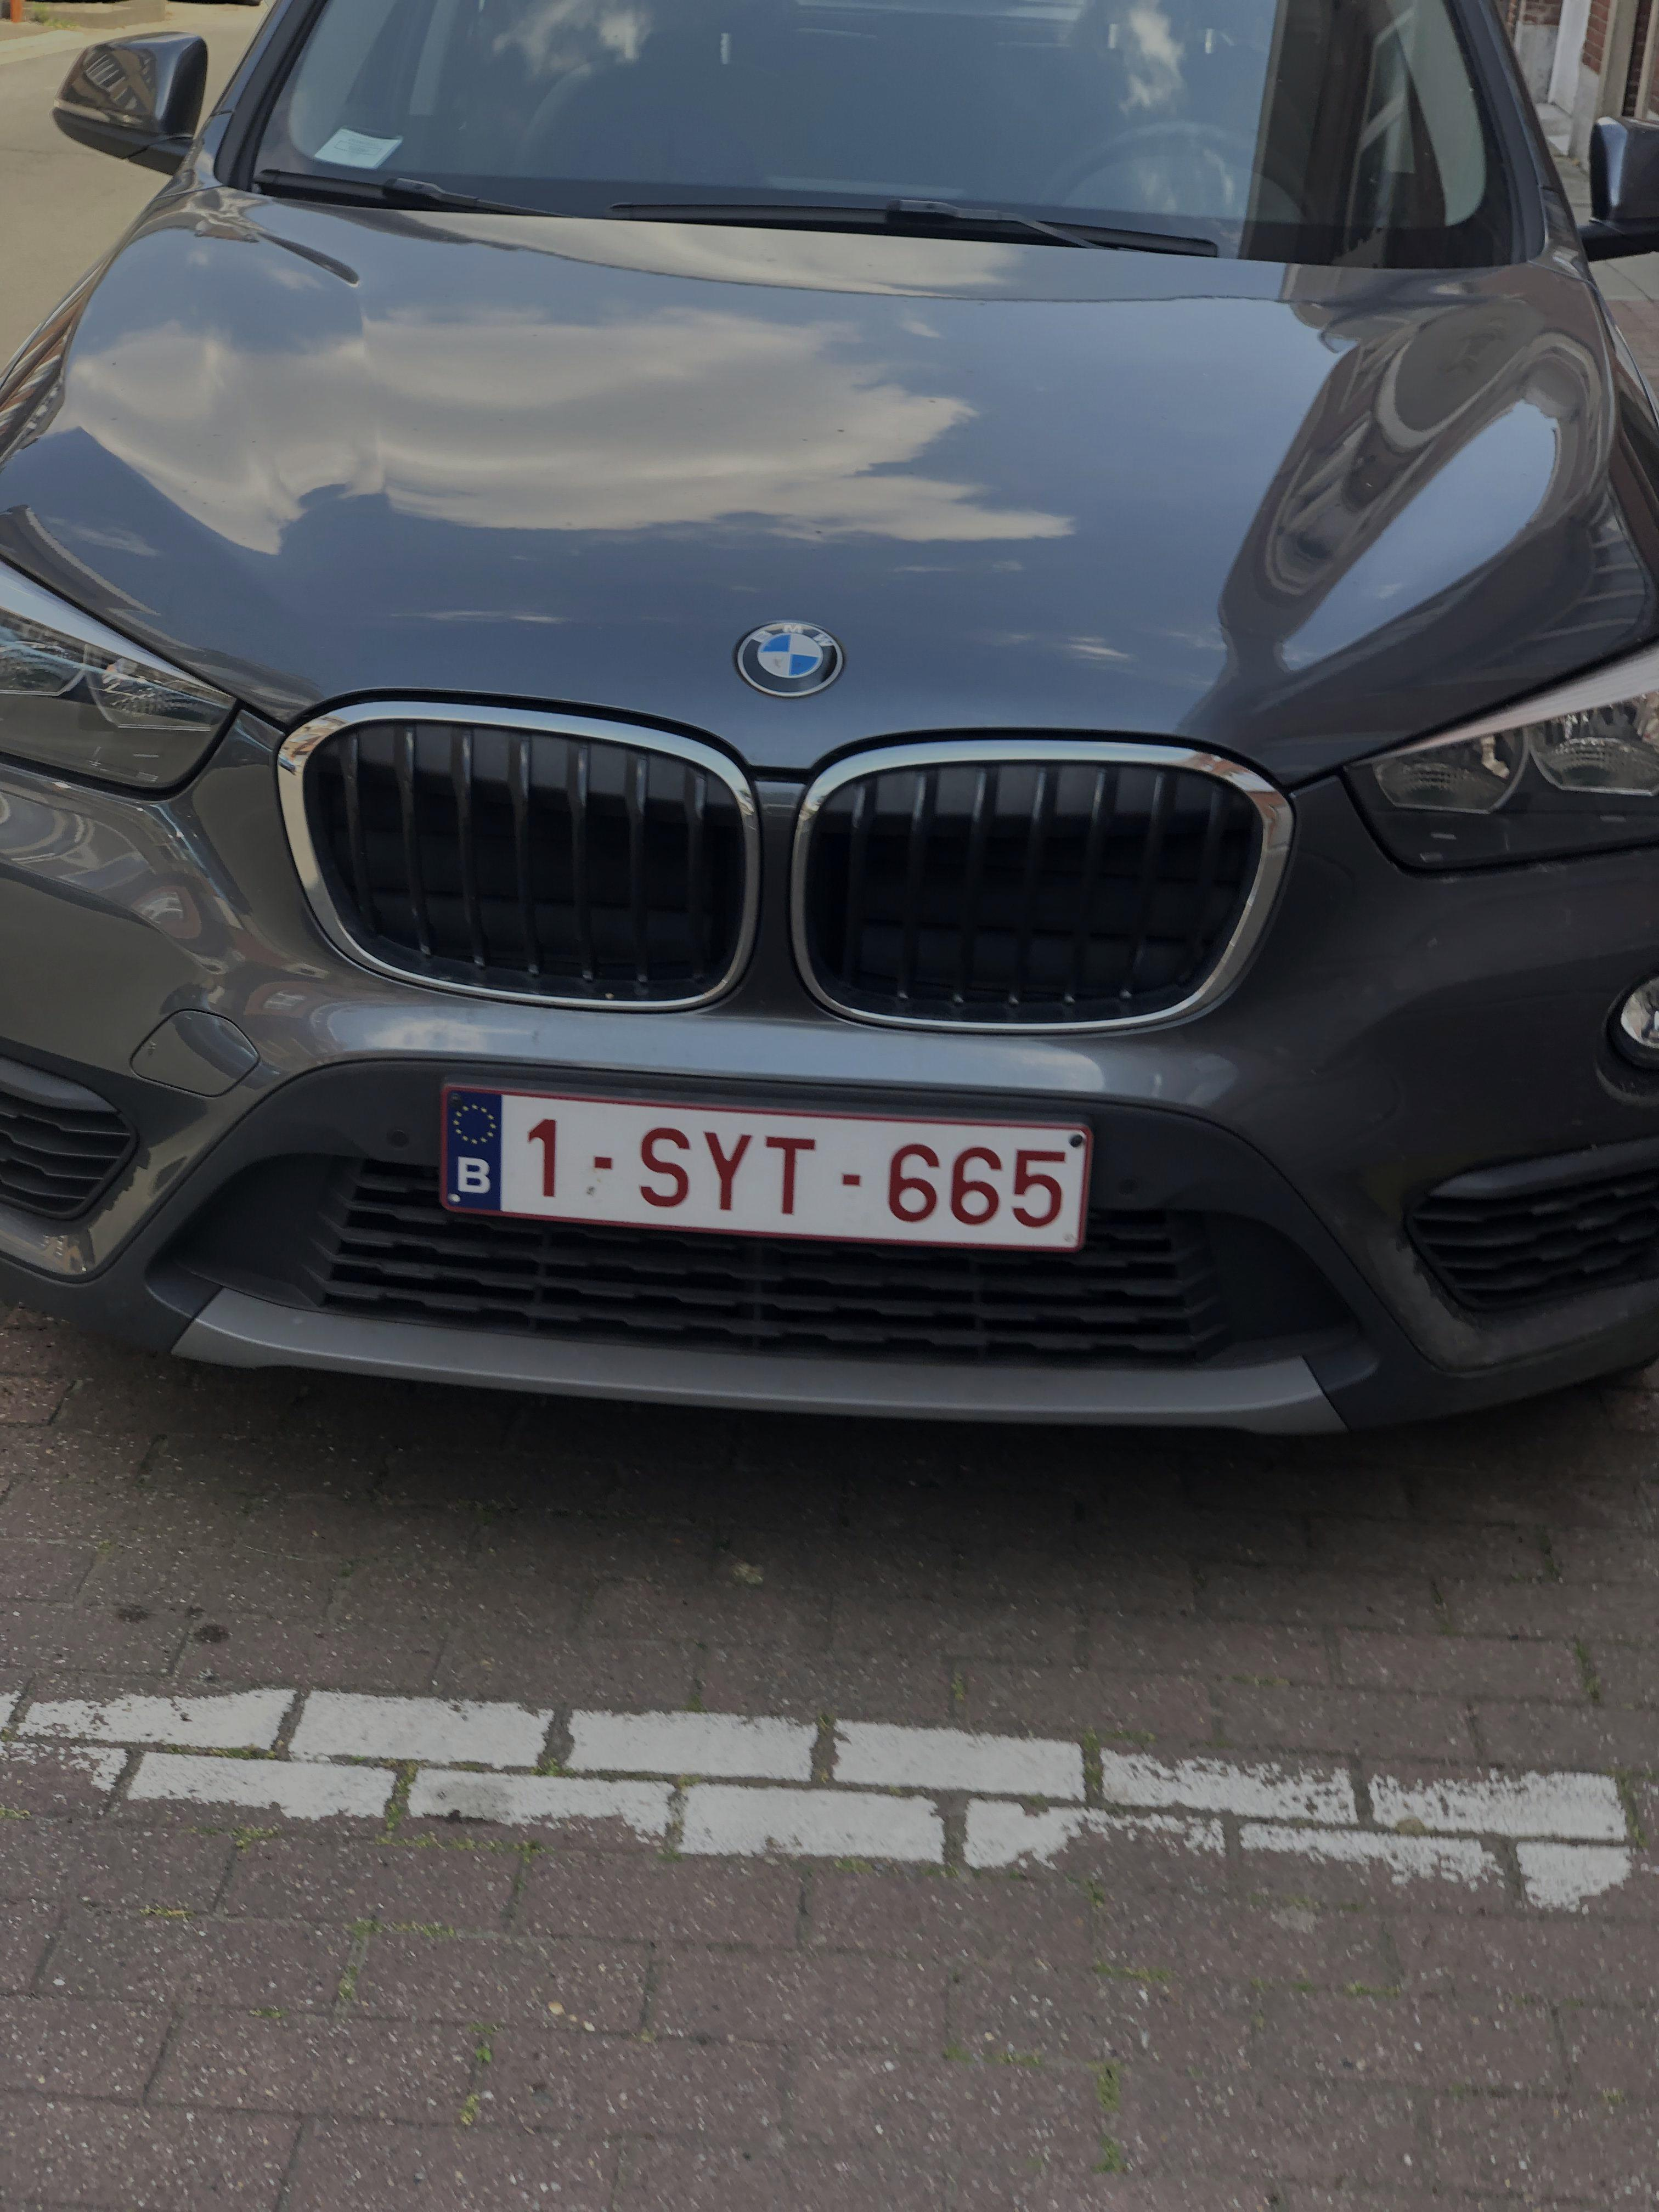plate: (424, 1057, 1104, 1265)
